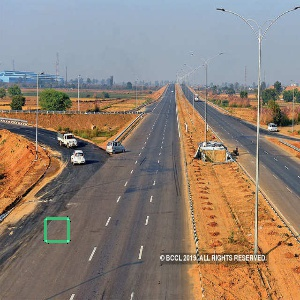square: (41, 215, 73, 246)
